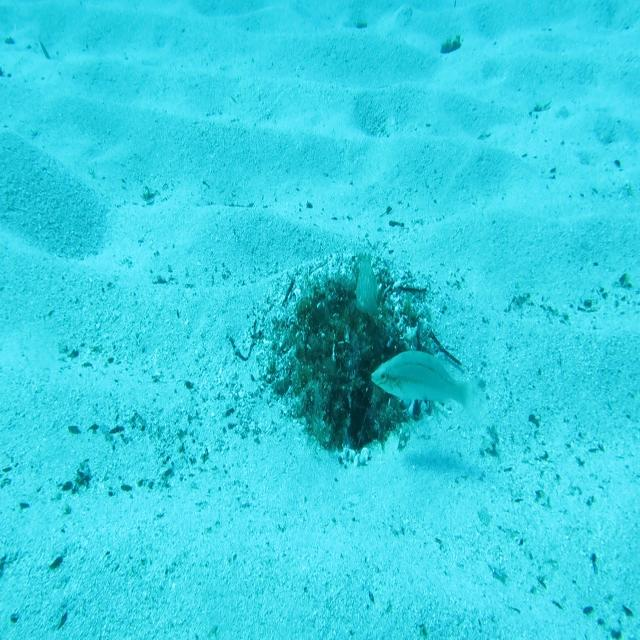NIP_CORE: (353, 250, 382, 324)
core_nest: (325, 296, 377, 351)
female: (370, 347, 487, 429)
nest: (240, 240, 462, 484)
vegetation: (438, 33, 463, 54)
